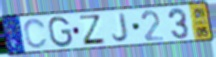2: (140, 9, 166, 43)
3: (168, 7, 190, 41)
C: (23, 18, 49, 50)
G: (47, 15, 74, 49)
J: (111, 12, 130, 43)
Z: (78, 14, 107, 46)
